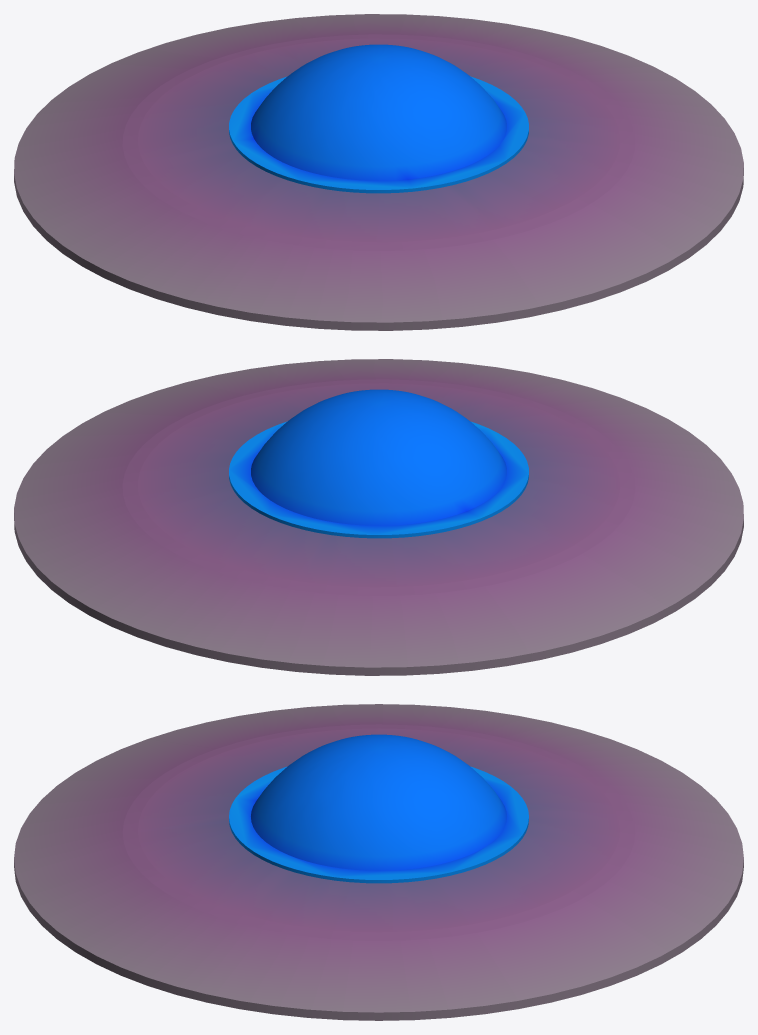
3 renders of one model, top to bottom at view 1: azimuth 30°, elevation 25°; view 2: azimuth 150°, elevation 25°; view 3: azimuth 270°, elevation 25°, orthographic.
Parts seen in each view (by area): view 1: plate, lip; view 2: plate, lip; view 3: plate, lip.
Boxes of the visible parts, x1,y1,x2,y2 form: plate: (14, 14, 743, 330); lip: (229, 44, 528, 193); plate: (14, 359, 743, 675); lip: (229, 389, 528, 538); plate: (14, 704, 743, 1020); lip: (229, 734, 528, 883).
Size of the model in its own units: 11.96 by 2.56 by 11.96.
